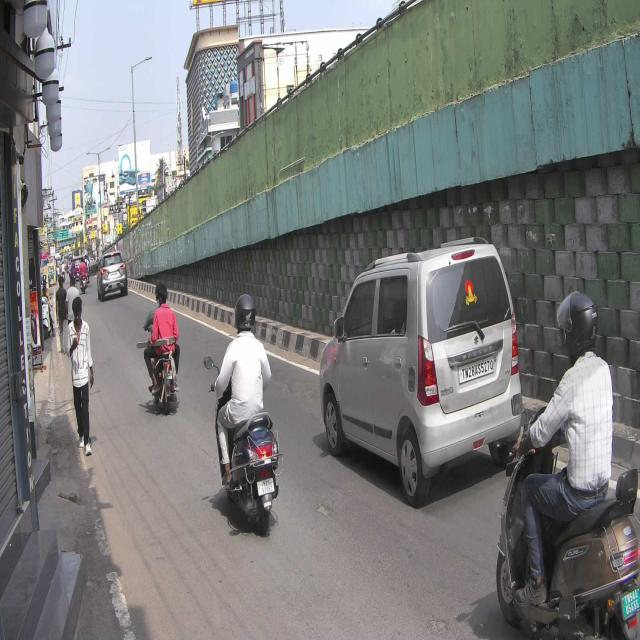double_rider: (142, 280, 180, 414)
single_rider: (496, 289, 640, 640), (204, 292, 282, 537)
